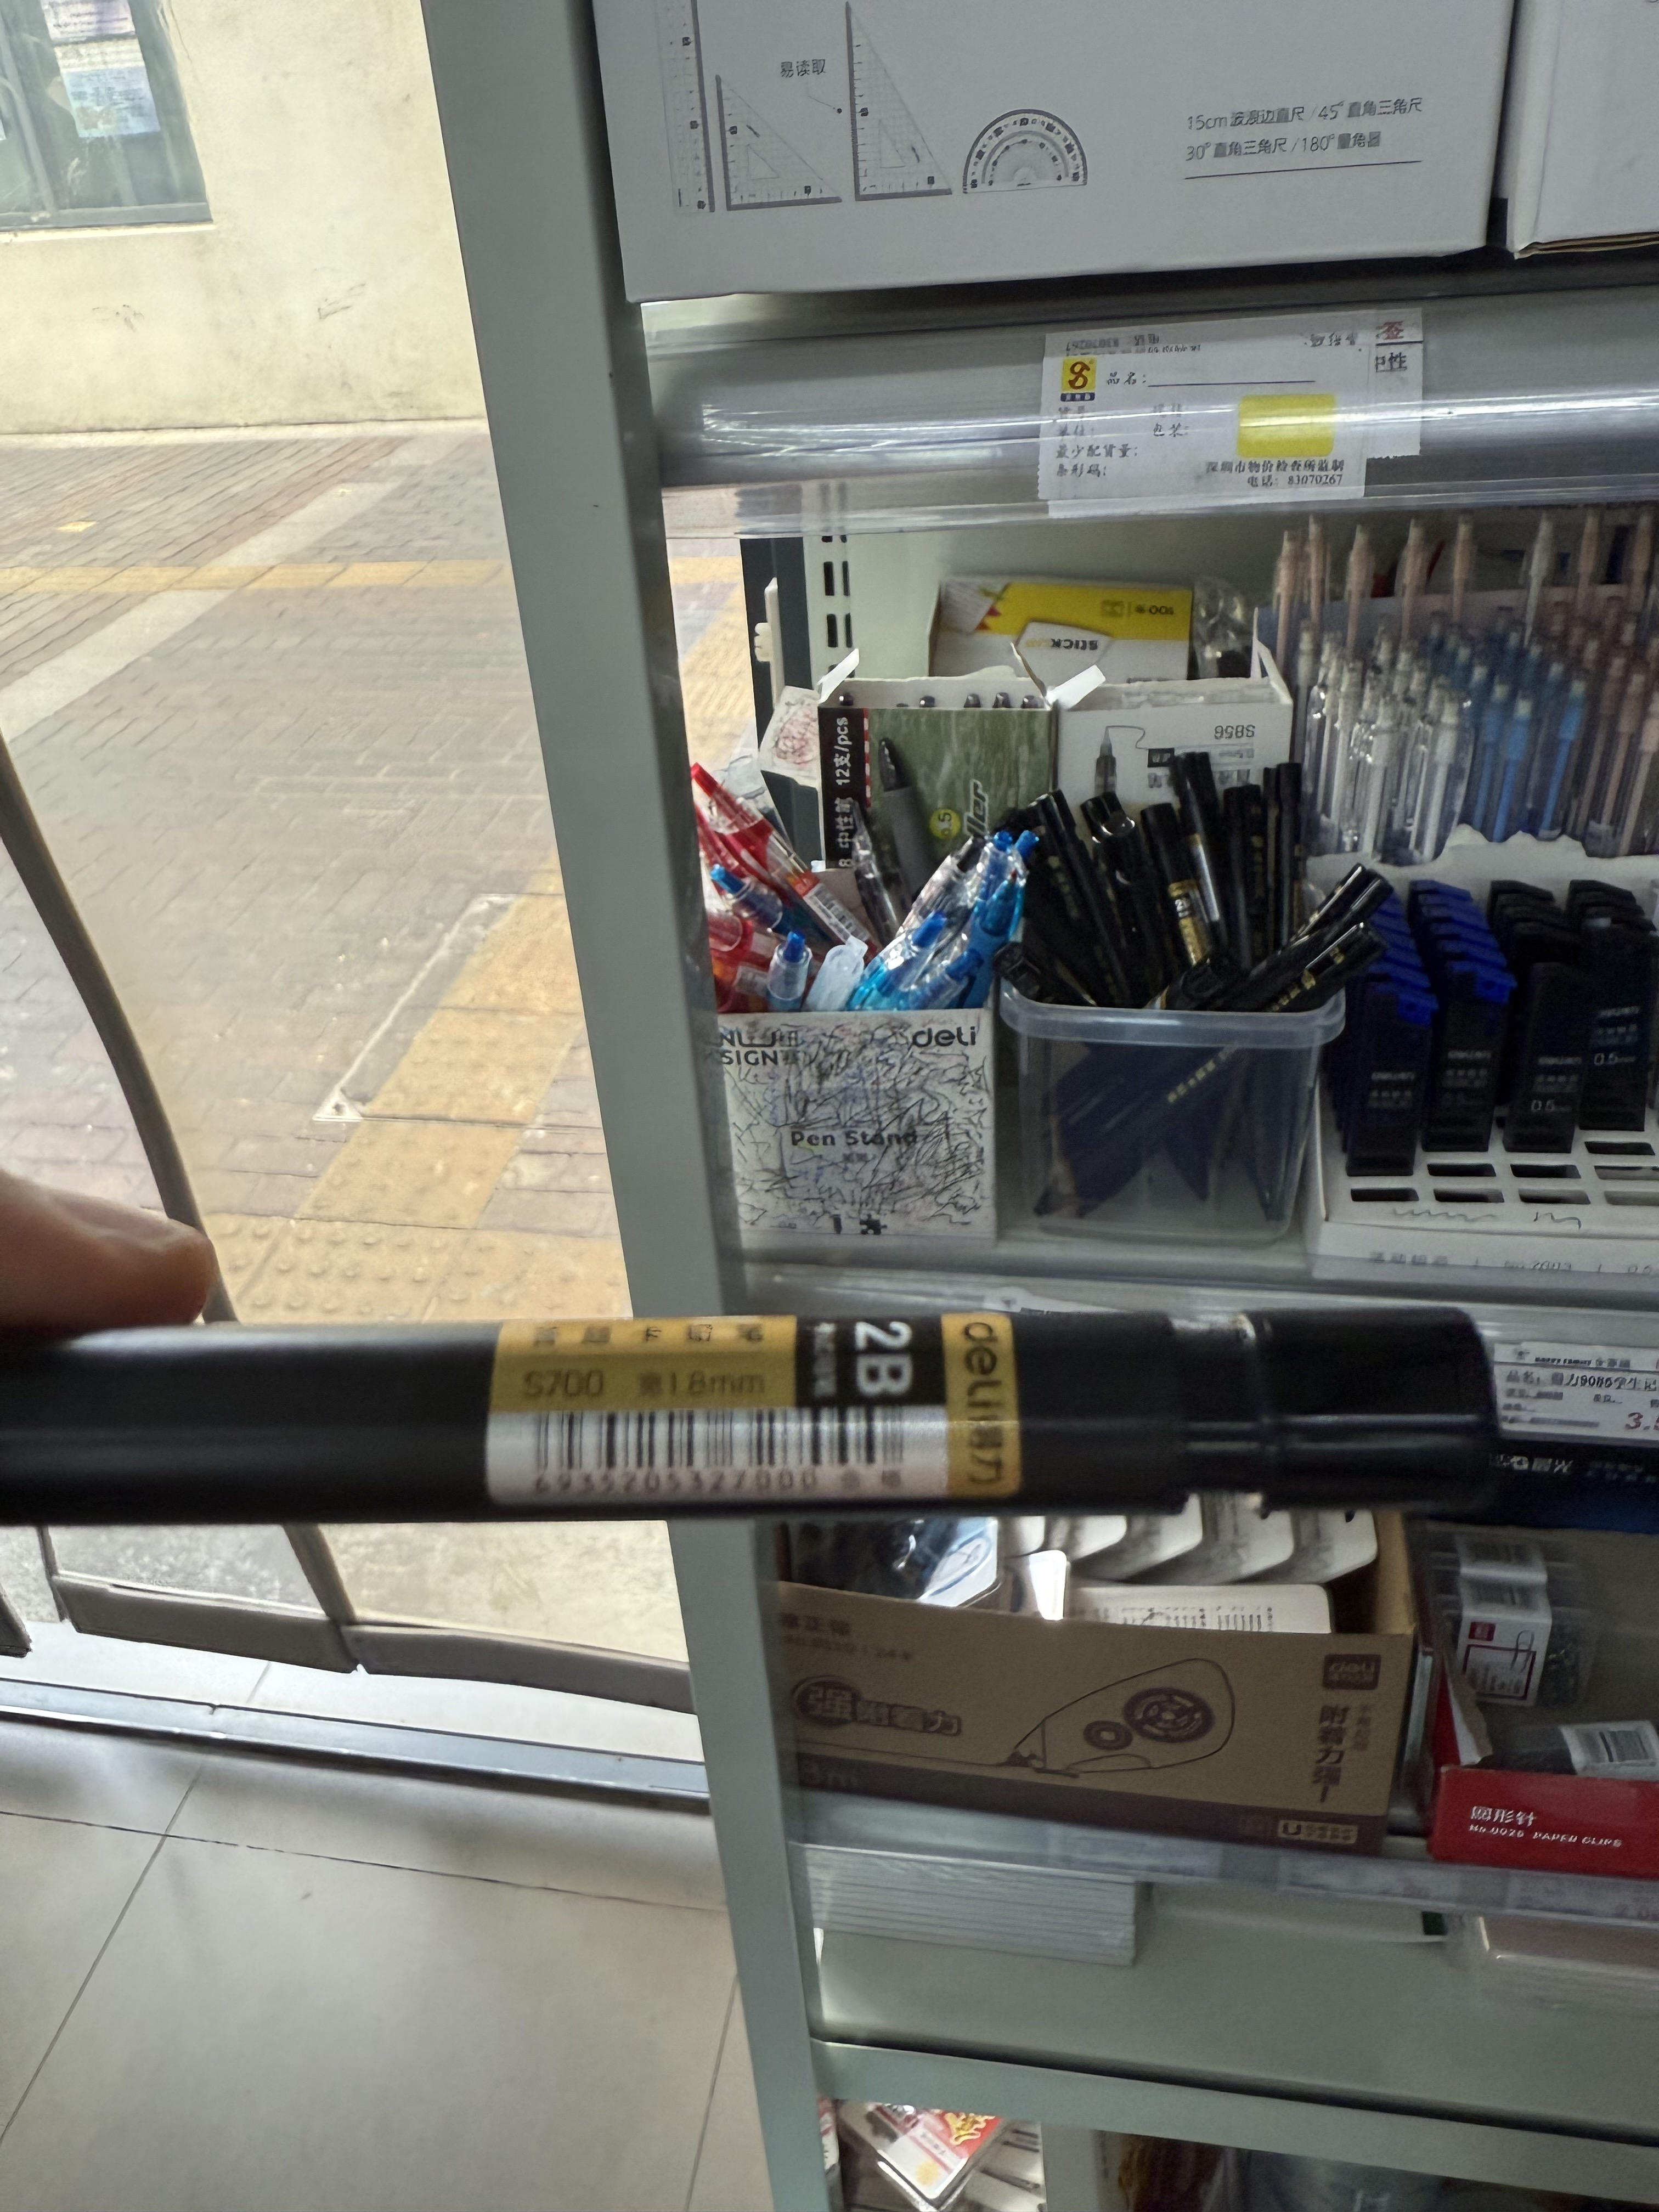bar: (523, 1400, 922, 1477)
